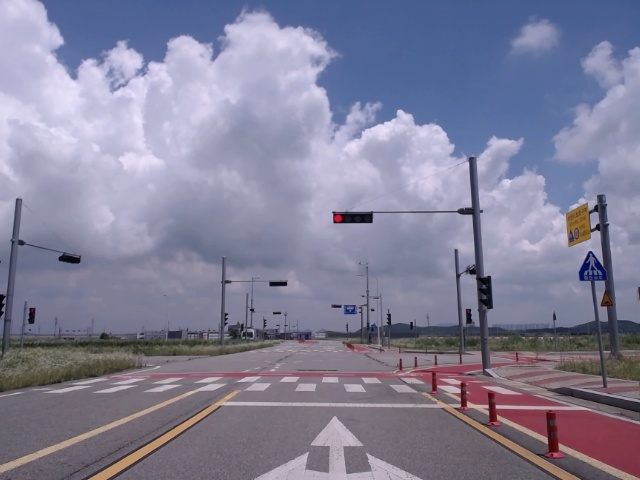red_4: (333, 213, 373, 223)
